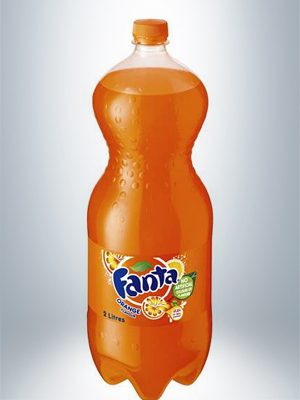Fanta: (85, 21, 218, 396)
